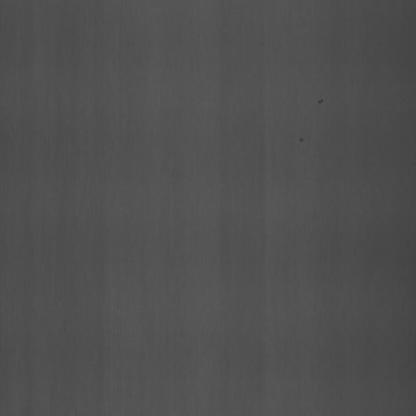inclusion: (314, 83, 334, 124), (299, 126, 309, 149)
